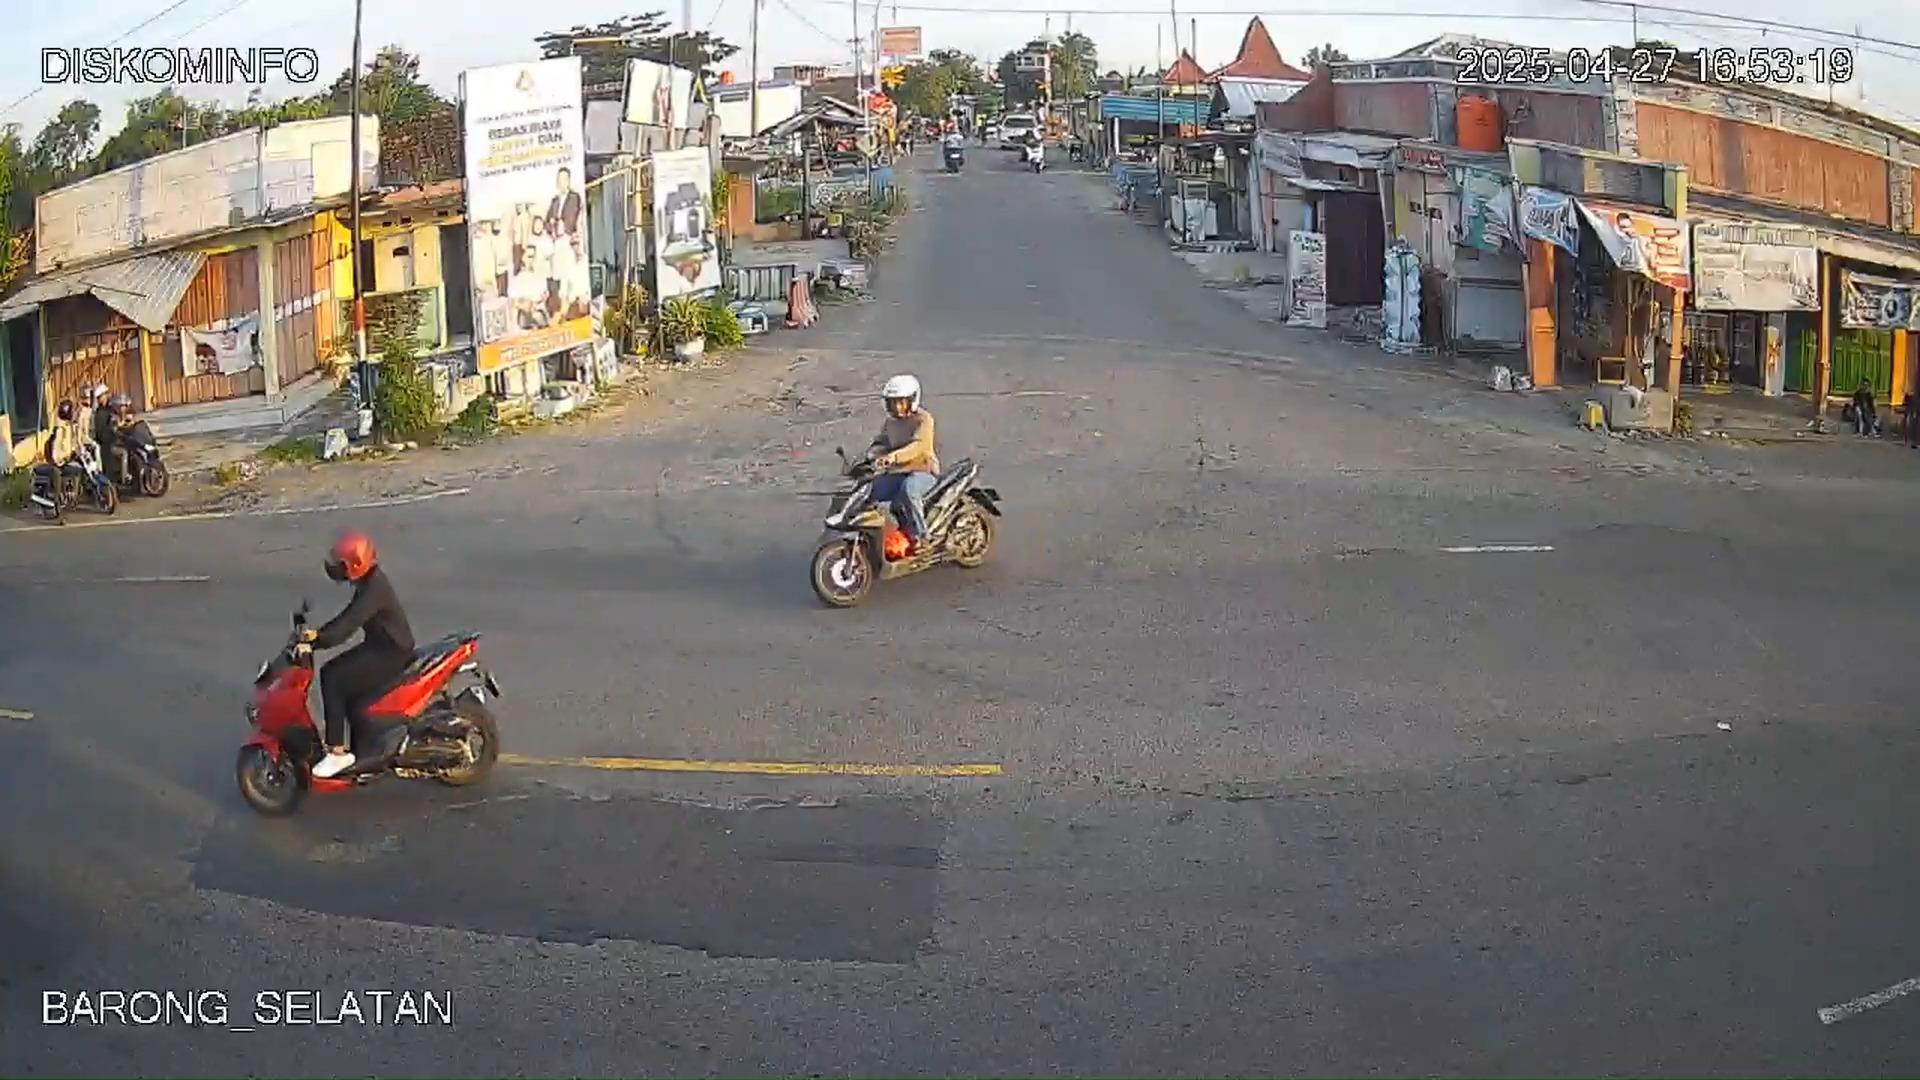Motor: (233, 596, 502, 815), (798, 443, 1002, 628), (98, 421, 171, 500)
